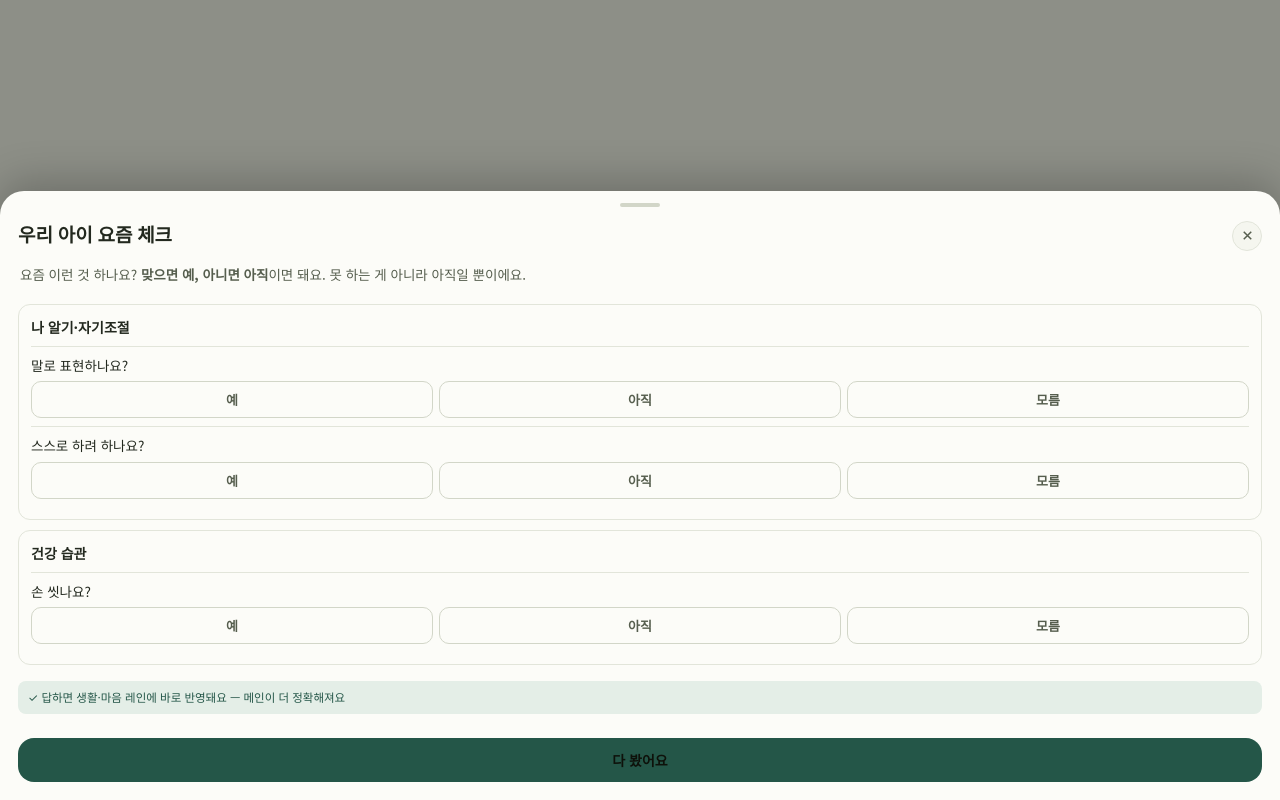
Test: 관찰 체크 모듈 › 저장 후 안도 결과 화면이 뜬다
Click the button "다 봤어요" at x=640, y=760, box [18,738,1262,782]
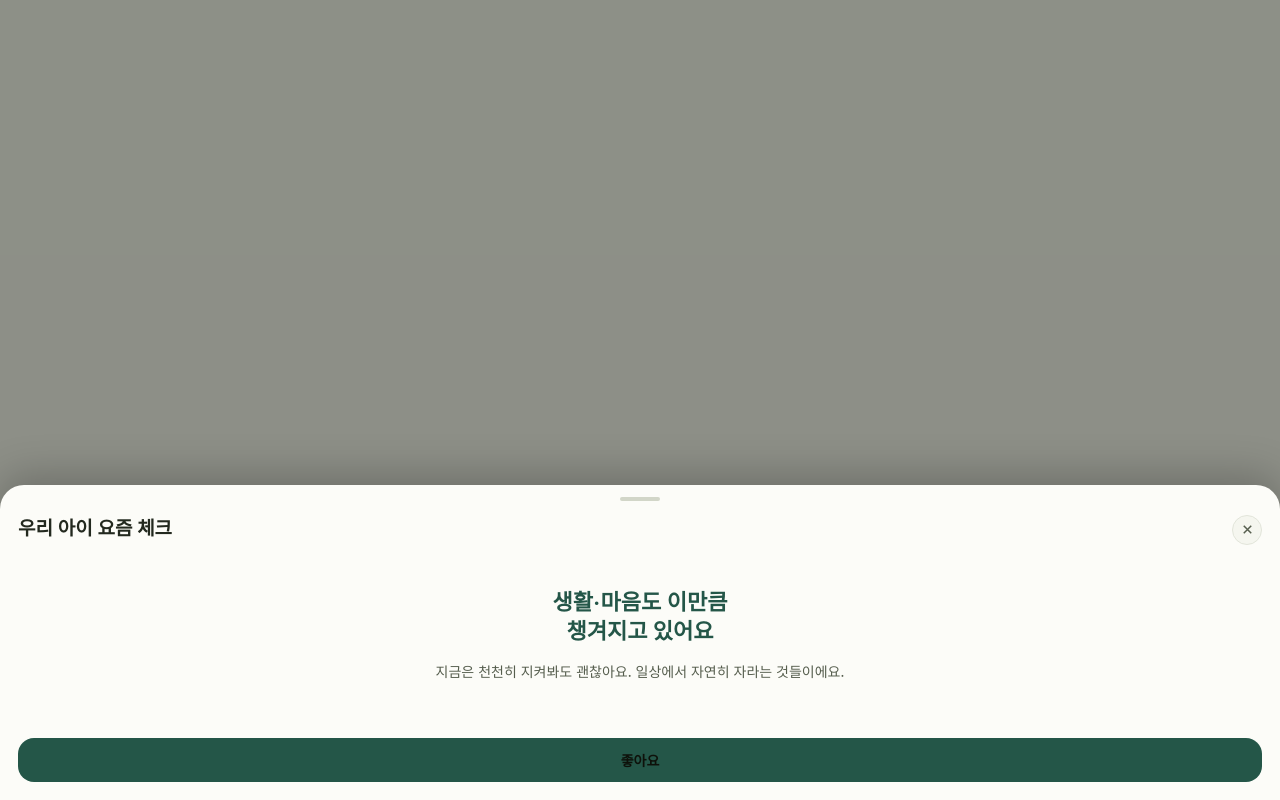
Expected: the element with test id "obs-result" is shown, [436,590,844,681]
Expected: the text "챙겨지고 있어요" is shown, [566,619,714,644]
